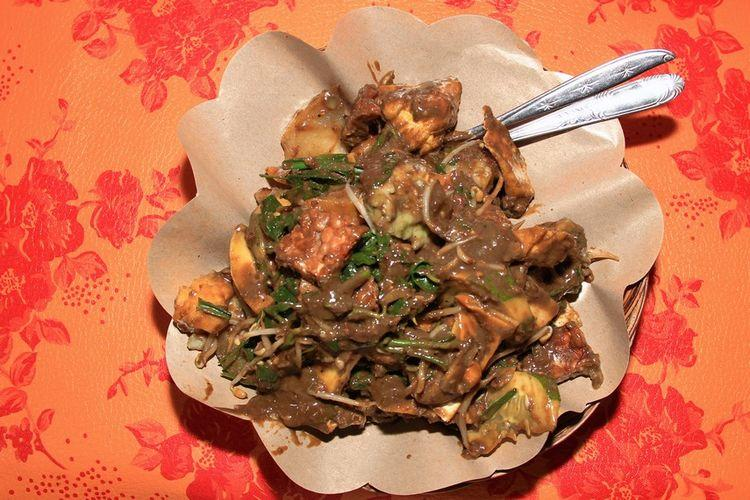rujak_cingur: (172, 80, 602, 460)
